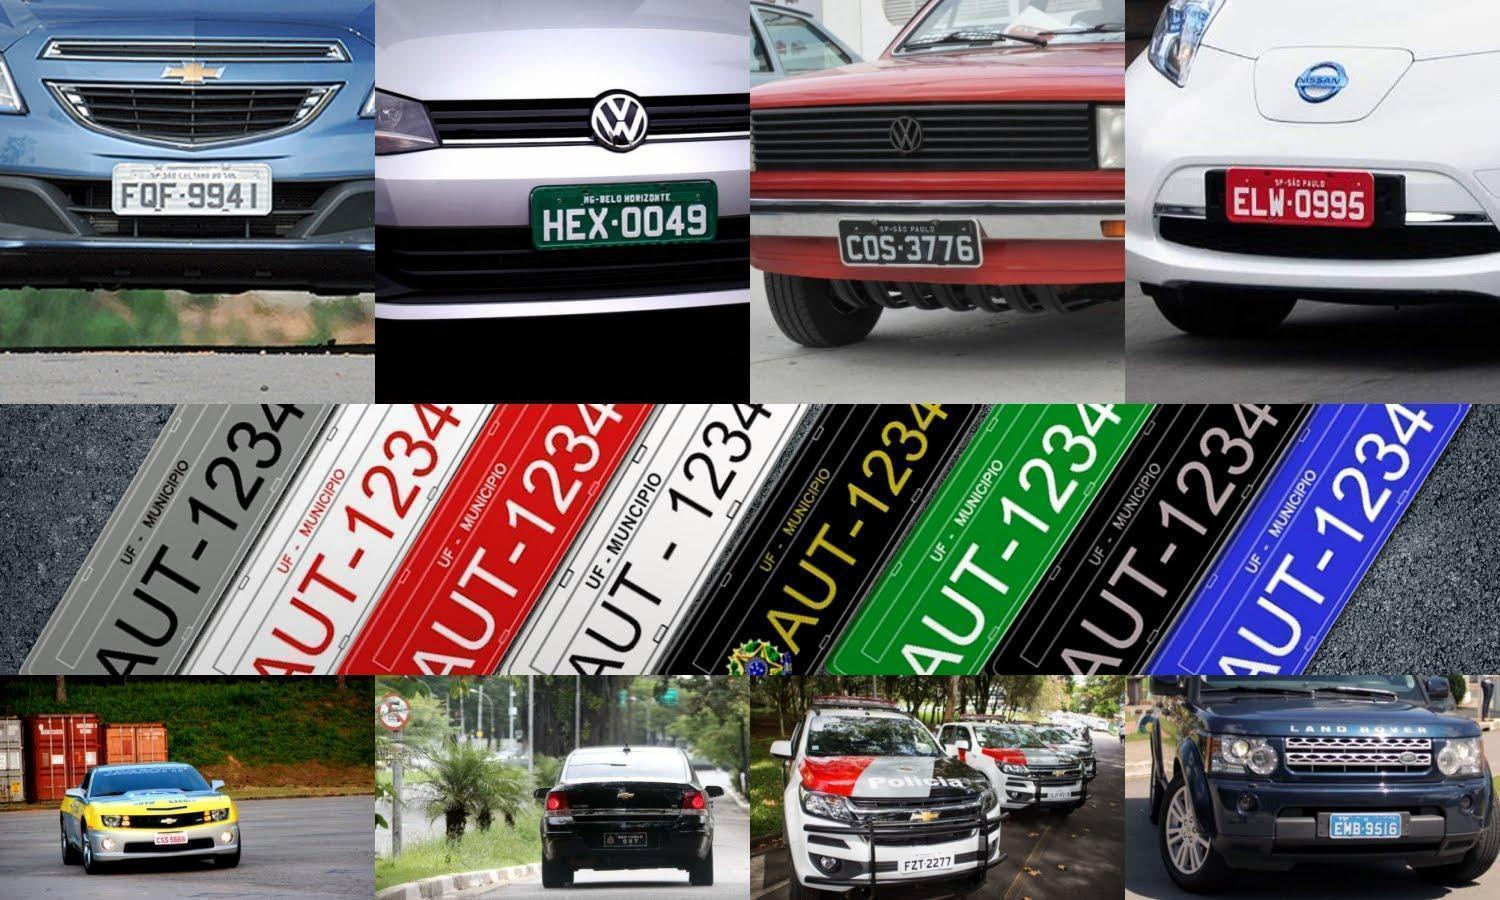placa de veiculo: (516, 168, 728, 254), (828, 202, 994, 294), (1209, 157, 1384, 241), (99, 151, 281, 225), (1315, 796, 1412, 856), (891, 844, 975, 879), (585, 827, 662, 856), (136, 829, 196, 858)
